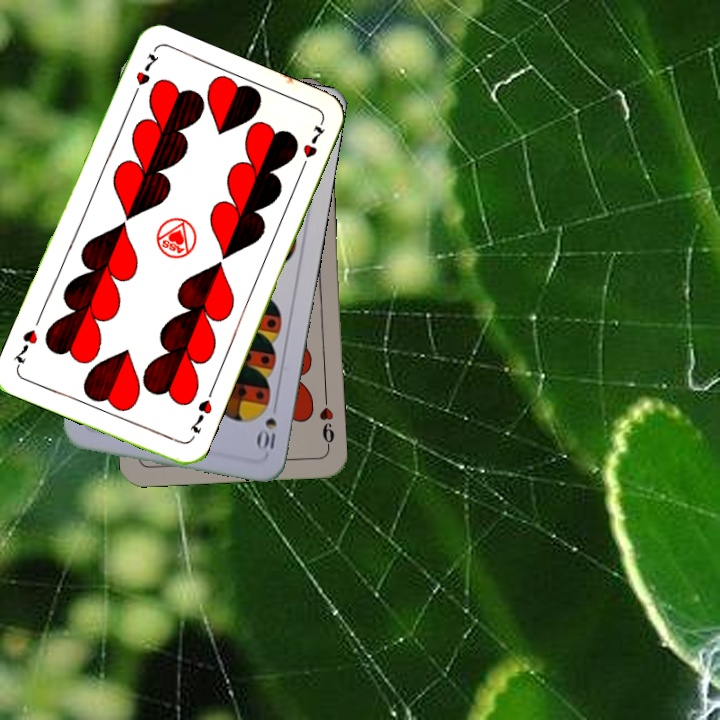H7: (127, 47, 161, 103), (185, 395, 215, 436)
H9: (315, 393, 337, 452)
S10: (253, 397, 280, 452)
